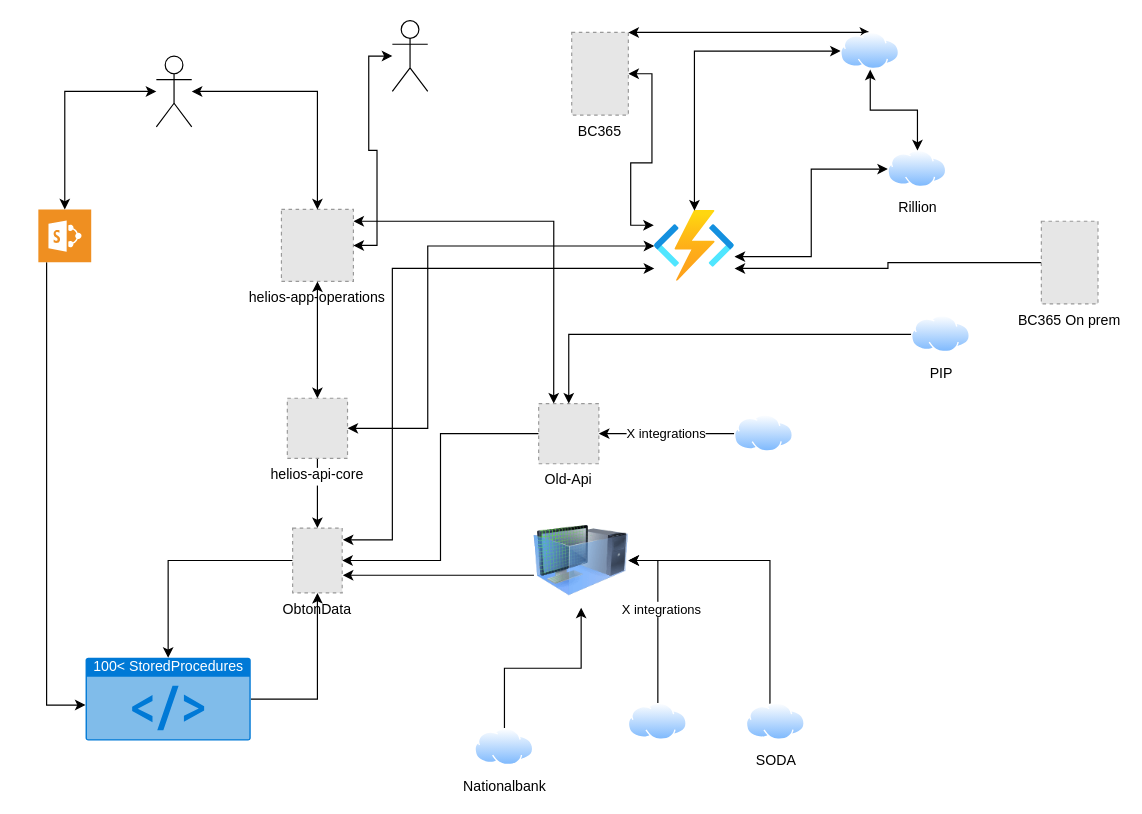
This 1142x814 diagram has some shape labels left out. Grey dashed boxes stand in for pictures. The shapes that lost their labels are listed below. From the top down, each one's box as (x1, y1, x2, y2) in pixels, then its label:
(391, 19, 428, 91): InvestorService
(840, 32, 899, 69): TIS
(155, 55, 192, 127): CompanyManager
(38, 209, 91, 262): SpeedGuiides
(654, 210, 734, 281): 5+ func apps
(533, 513, 628, 607): web01
